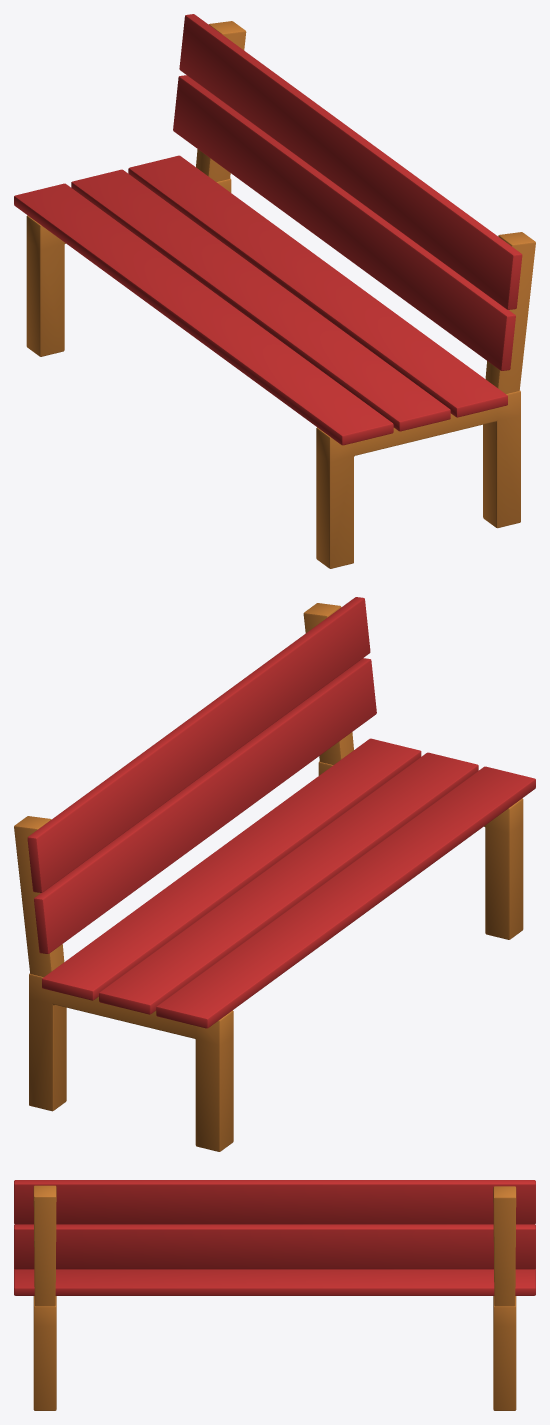
The model's file is bench.glb.
The picture shows the model from 3 angles, top to bottom: view 1: azimuth 30°, elevation 25°; view 2: azimuth 150°, elevation 25°; view 3: azimuth 270°, elevation 25°; orthographic projection. The views are drawn at different scales.
Visible parts, largest first — view 1: bench; view 2: bench; view 3: bench.
Boxes of the visible parts, box(x1,y1,x2,y2) form: bench: box(14, 14, 535, 568); bench: box(14, 597, 535, 1151); bench: box(14, 1180, 535, 1410).
Bounding box in the file's own units: 0.7353 × 0.9572 × 2.02.
1 material, 1 textured.
